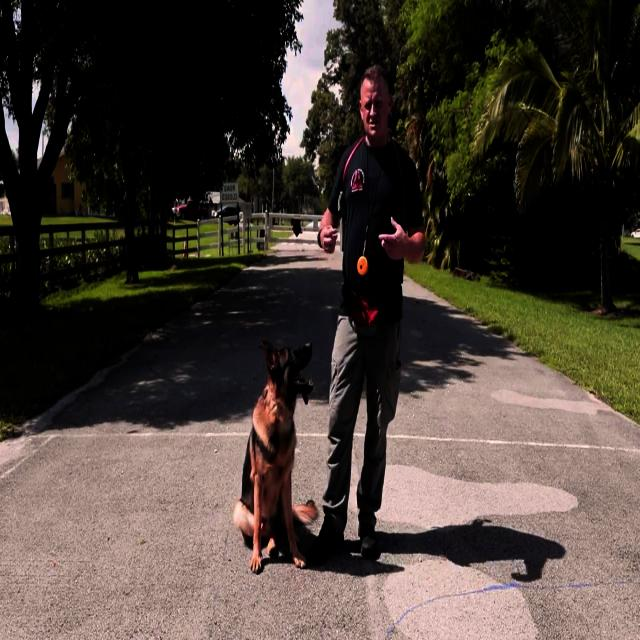Unleashed_Dog: (234, 316, 389, 577)
